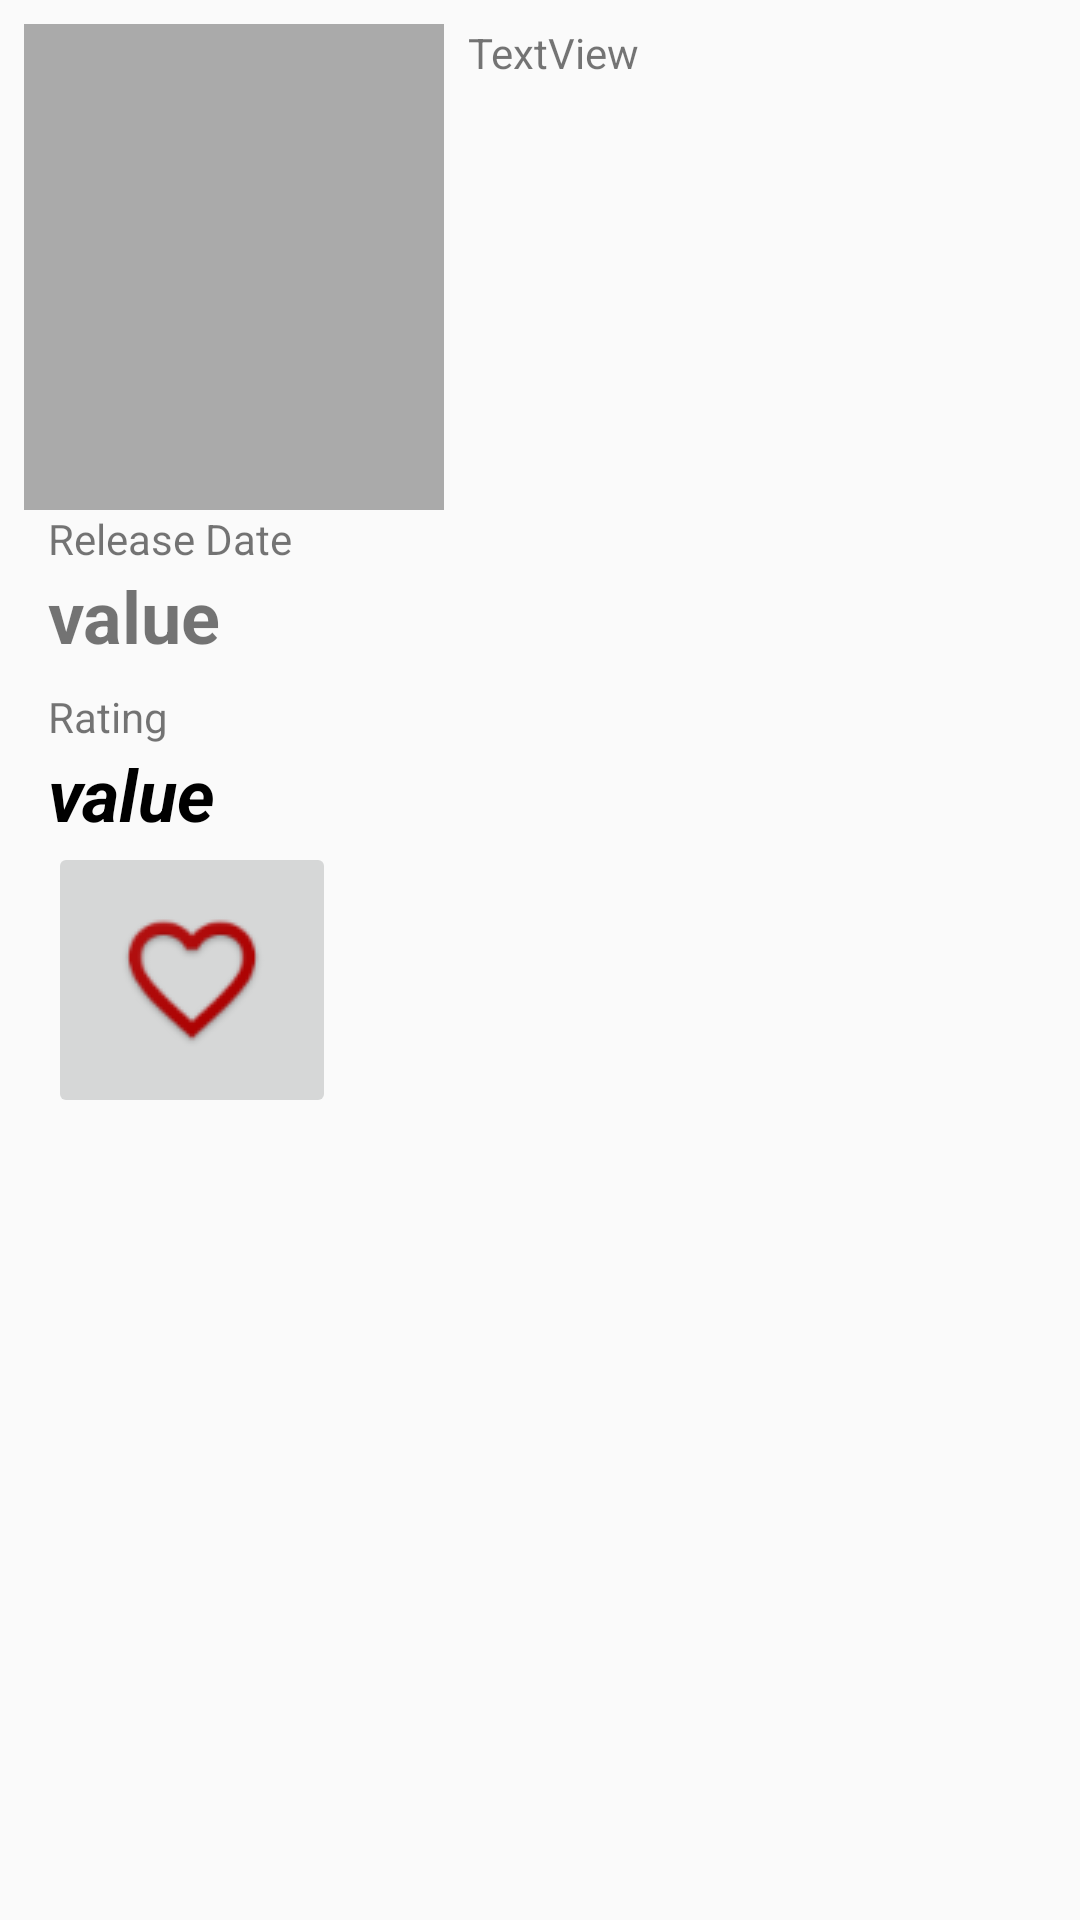

Icon click points for this 1080 × 1920 phone screenshot, format (x=x, y=y):
Add the movie to favourates: (x=192, y=980)
